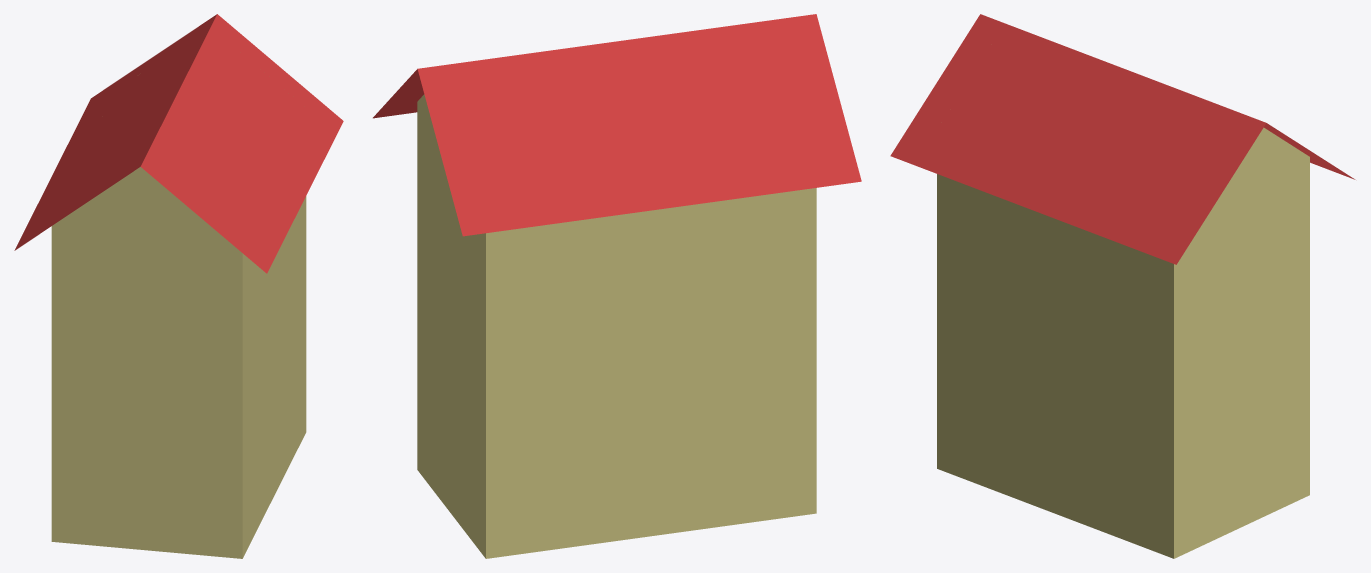
3 renders of one model, left to right at view 1: azimuth 30°, elevation 25°; view 2: azimuth 150°, elevation 25°; view 3: azimuth 270°, elevation 25°, orthographic. The views are drawn at different scales.
Bounding box in the file's own units: 6.94 × 7.07 × 6.91.
